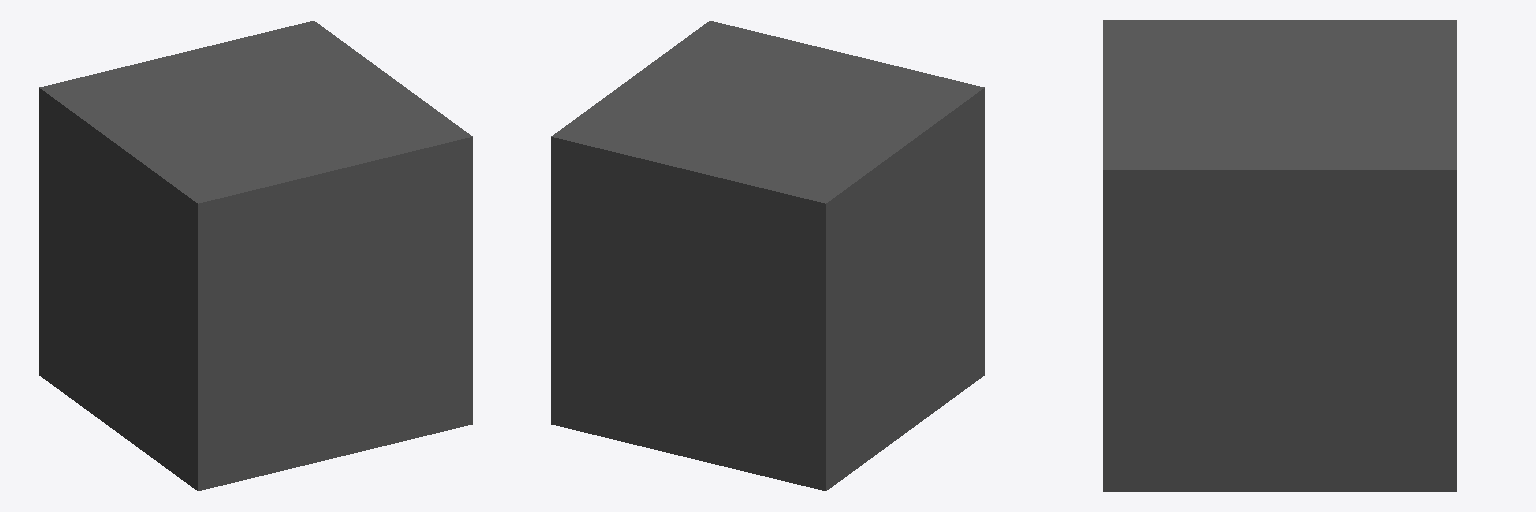
URDF robot description (cube-robot):
<?xml version="1.0"?>
<robot name="cube-robot"
       xmlns:xi="http://www.w3.org/2001/XInclude"
       xmlns:gazebo="http://playerstage.sourceforge.net/gazebo/xmlschema/#gz"
       xmlns:model="http://playerstage.sourceforge.net/gazebo/xmlschema/#model"
       xmlns:sensor="http://playerstage.sourceforge.net/gazebo/xmlschema/#sensor"
       xmlns:body="http://playerstage.sourceforge.net/gazebo/xmlschema/#body"
       xmlns:geom="http://playerstage.sourceforge.net/gazebo/xmlschema/#geom"
       xmlns:joint="http://playerstage.sourceforge.net/gazebo/xmlschema/#joint"
       xmlns:interface="http://playerstage.sourceforge.net/gazebo/xmlschema/#interface"
       xmlns:rendering="http://playerstage.sourceforge.net/gazebo/xmlschema/#rendering"
       xmlns:renderable="http://playerstage.sourceforge.net/gazebo/xmlschema/#renderable"
       xmlns:controller="http://playerstage.sourceforge.net/gazebo/xmlschema/#controller"
       xmlns:physics="http://playerstage.sourceforge.net/gazebo/xmlschema/#physics">
  <gazebo>
    <static>true</static>
  </gazebo>
  <link name="nil_link">
    <visual>
      <origin xyz="0 0 0" rpy="0 -0 0"/>
      <geometry>
        <mesh filename="model://Cube/meshes/nil_link_mesh.dae" scale="1 1 1" />
      </geometry>
    </visual>
    <collision>
      <origin xyz="0 0 0" rpy="0 -0 0"/>
      <geometry>
        <mesh filename="model://Cube/meshes/nil_link_mesh.dae" scale="1 1 1" />
      </geometry>
    </collision>
    <inertial>
      <mass value="1" />
      <origin xyz="0 0 0" rpy="0 -0 0"/>
      <inertia ixx="1" ixy="0" ixz="0" iyy="1" iyz="0" izz="1"/>
    </inertial>
  </link>
  <gazebo reference="nil_link">
    <mu1>0.9</mu1>
    <mu2>0.9</mu2>
  </gazebo>
  <gazebo>
    <plugin filename="libSetVelPlugin.so" name="set_vel_plugin" >
      <objname>Cube</objname>
      <linkname>nil_link</linkname>
    </plugin>
  </gazebo>
  <gazebo>
    <plugin filename="libPubTfPlugin.so" name="pub_tf_plugin" >
      <objname>Cube</objname>
      <linkname>nil_link</linkname>
    </plugin>
  </gazebo>
</robot>

--- Render facts (derived) ---
3 views of the same robot in one strip: view 1: azimuth 30°, elevation 25°; view 2: azimuth 150°, elevation 25°; view 3: azimuth 270°, elevation 25° (orthographic).
Model cube-robot with 1 links and 0 joints (none), rooted at nil_link, posed every joint at zero.
Links seen in each view (by area): view 1: nil_link; view 2: nil_link; view 3: nil_link.
Boxes of the visible links, box(x1,y1,x2,y2) form: nil_link: box(39, 21, 472, 490); nil_link: box(551, 21, 984, 490); nil_link: box(1103, 20, 1456, 491).
Bounding box of the posed robot: 1 × 1 × 1 m (x, y, z).
1 mesh visuals loaded from 1 distinct referenced files (1 Collada DAE).